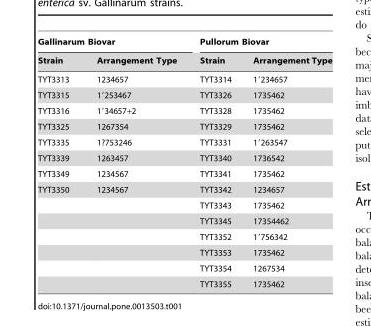table: (37, 37, 331, 288)
table column: (82, 37, 187, 288), (241, 37, 331, 288), (187, 37, 241, 288), (37, 37, 82, 288)
table column header: (37, 37, 331, 69)
table row: (37, 50, 331, 69), (37, 69, 331, 87), (37, 101, 331, 118), (37, 118, 331, 134), (37, 134, 331, 150), (37, 165, 331, 181), (37, 181, 331, 197), (37, 197, 331, 213), (37, 228, 331, 244), (37, 244, 331, 260), (37, 260, 331, 276), (37, 150, 331, 165), (37, 213, 331, 228), (37, 87, 331, 101), (37, 37, 331, 50), (37, 276, 331, 288)
table spanning cell: (37, 181, 82, 288), (37, 37, 187, 50), (187, 37, 331, 50)
